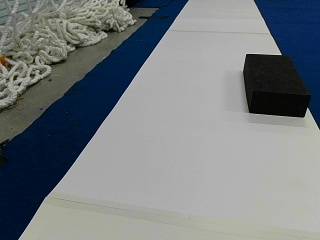block: (243, 53, 310, 117)
